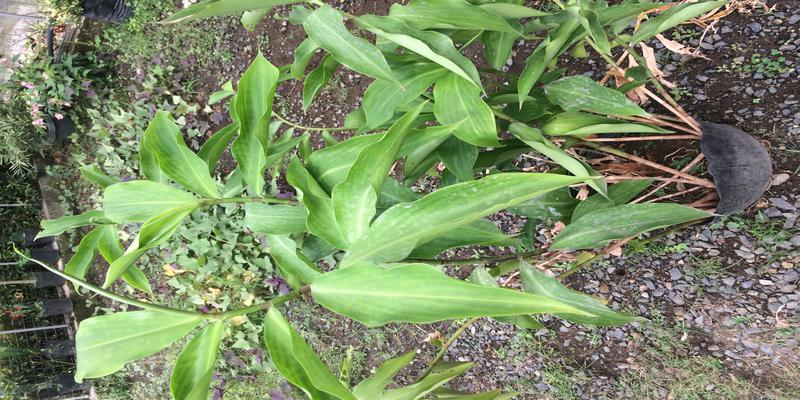Insulin: (282, 31, 725, 318)
